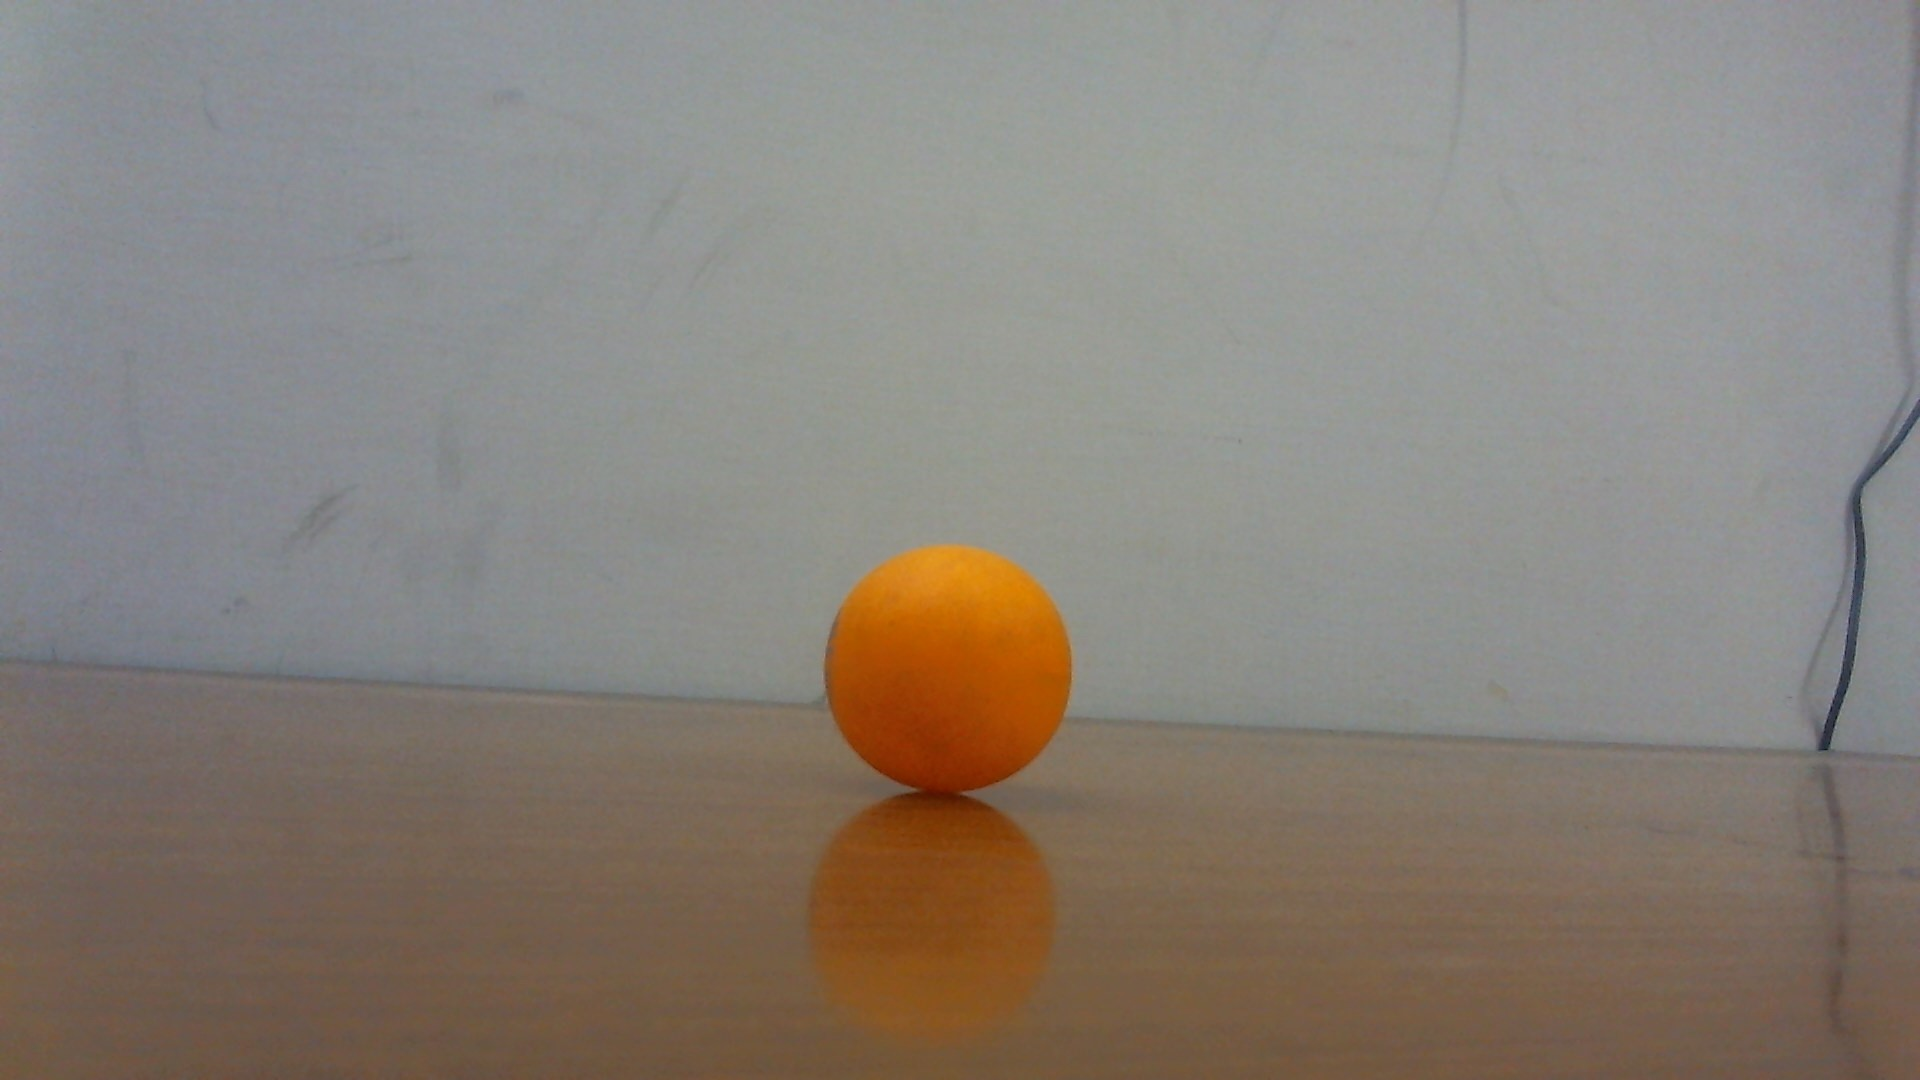ball: (823, 542, 1072, 796)
